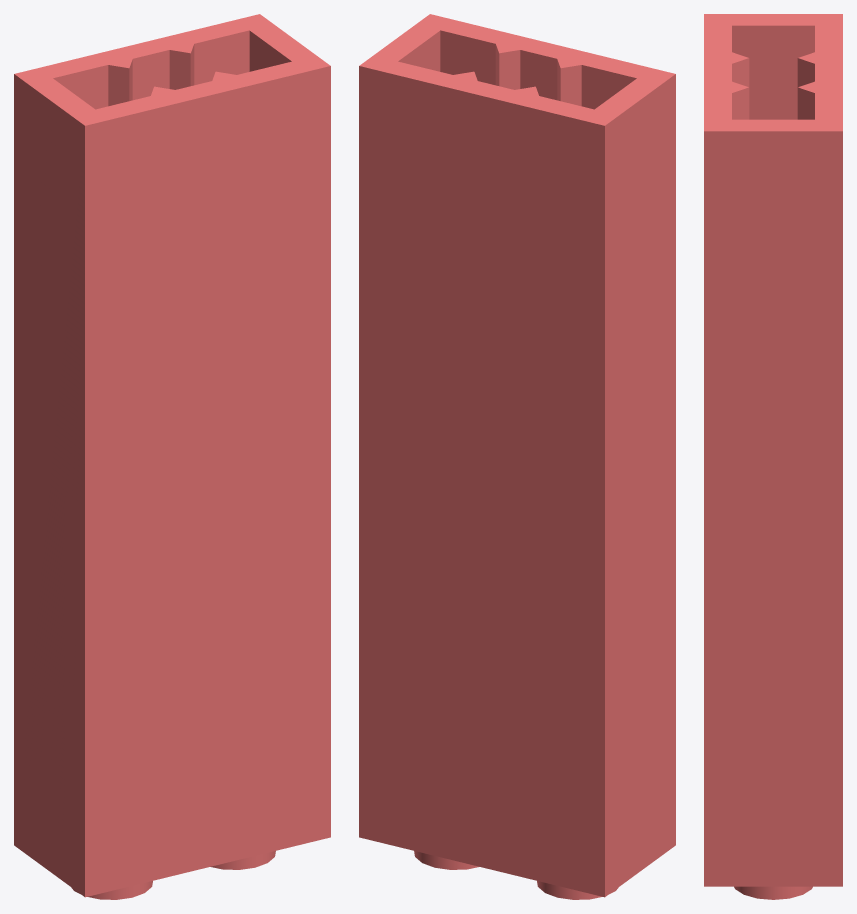
3 renders of one model, left to right at view 1: azimuth 30°, elevation 25°; view 2: azimuth 150°, elevation 25°; view 3: azimuth 270°, elevation 25°, orthographic. The views are drawn at different scales.
Visible parts, largest first — view 1: LDrawPart; view 2: LDrawPart; view 3: LDrawPart.
Boxes of the visible parts, x1,y1,x2,y2 form: LDrawPart: (14,14,330,899); LDrawPart: (359,14,675,899); LDrawPart: (704,14,842,899).
Size of the model in its own units: 0.28 by 0.868 by 0.14.
